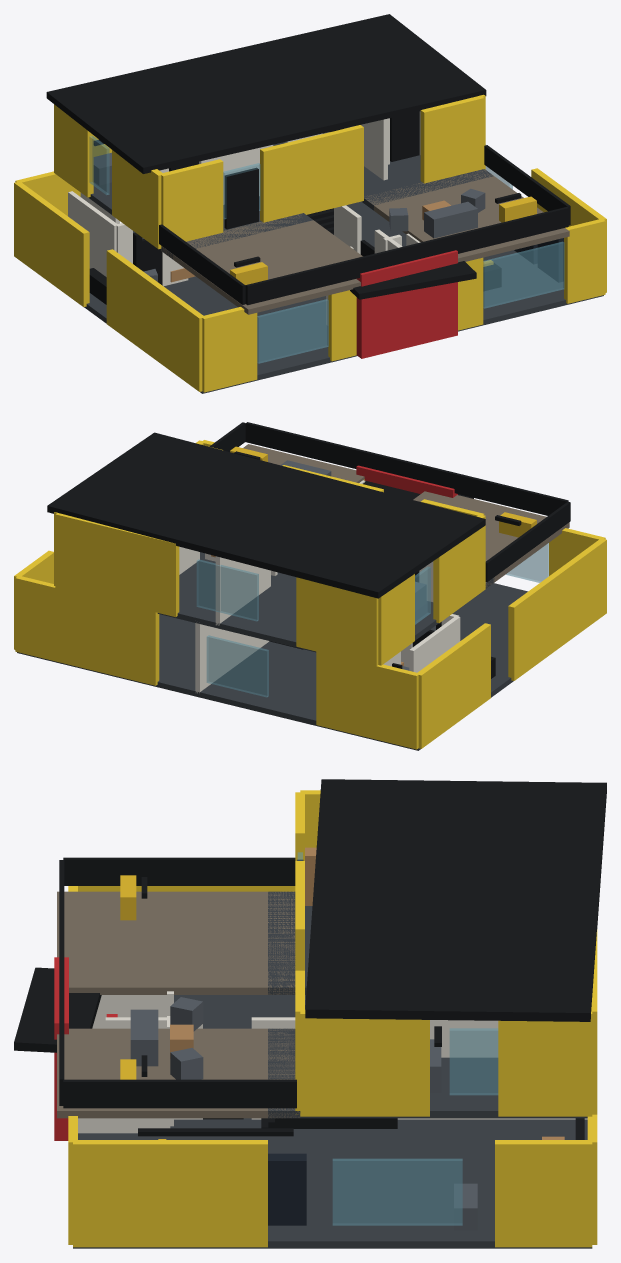
File: 09-direct-3d-model.glb
The picture shows the model from 3 angles, top to bottom: view 1: azimuth 30°, elevation 25°; view 2: azimuth 150°, elevation 25°; view 3: azimuth 270°, elevation 25°; orthographic projection. The views are drawn at different scales.
Visible parts, largest first — view 1: roof-upper, slab-ground, ufw-s2, slab-terrace, gfw-west1, entry-portal, rail-south, gfw-west2, slab-terrace-east, ufw-s3, ufw-s1, gfw-s1 (+28 smaller); view 2: roof-upper, slab-ground, gfw-n2, ufw-n2, gfw-west1, gfw-n1, rail-south, gfw-west2, ufw-n1, ufw-west1, win-living-north, win-upper-north (+17 smaller); view 3: roof-upper, slab-ground, slab-terrace, gfw-east1, ufw-east1, slab-terrace-east, gfw-east2, ufw-east2, win-gaming-east, rail-east, rail-west, slab-upper-east (+25 smaller).
Boxes of the visible parts, <box> form: roof-upper: <box>46,14,486,173</box>; slab-ground: <box>84,201,603,393</box>; ufw-s2: <box>260,125,363,222</box>; slab-terrace: <box>161,214,362,314</box>; gfw-west1: <box>106,249,204,391</box>; entry-portal: <box>356,250,457,358</box>; rail-south: <box>245,207,568,305</box>; gfw-west2: <box>14,182,89,307</box>; slab-terrace-east: <box>364,169,569,262</box>; ufw-s3: <box>420,95,484,183</box>; ufw-s1: <box>161,159,223,246</box>; gfw-s1: <box>201,307,257,392</box>; roof-upper: <box>47,432,485,598</box>; slab-ground: <box>17,583,527,750</box>; gfw-n2: <box>15,576,159,685</box>; ufw-n2: <box>55,513,179,617</box>; gfw-west1: <box>508,538,606,680</box>; gfw-n1: <box>316,651,419,749</box>; rail-south: <box>245,422,568,515</box>; gfw-west2: <box>416,623,490,748</box>; ufw-n1: <box>296,577,378,665</box>; ufw-west1: <box>433,515,485,623</box>; win-living-north: <box>206,635,268,697</box>; win-upper-north: <box>196,559,258,621</box>; roof-upper: <box>305,779,606,1021</box>; slab-ground: <box>73,995,592,1248</box>; slab-terrace: <box>57,891,295,994</box>; gfw-east1: <box>73,1140,267,1247</box>; ufw-east1: <box>300,1010,429,1116</box>; slab-terrace-east: <box>57,1028,300,1118</box>; gfw-east2: <box>495,1140,592,1247</box>; ufw-east2: <box>498,1009,592,1116</box>; win-gaming-east: <box>332,1158,462,1225</box>; rail-east: <box>63,1079,296,1108</box>; rail-west: <box>63,857,295,885</box>; slab-upper-east: <box>268,1028,587,1118</box>.
Size of the model in its own units: 20.3 by 7.33 by 18.27.
